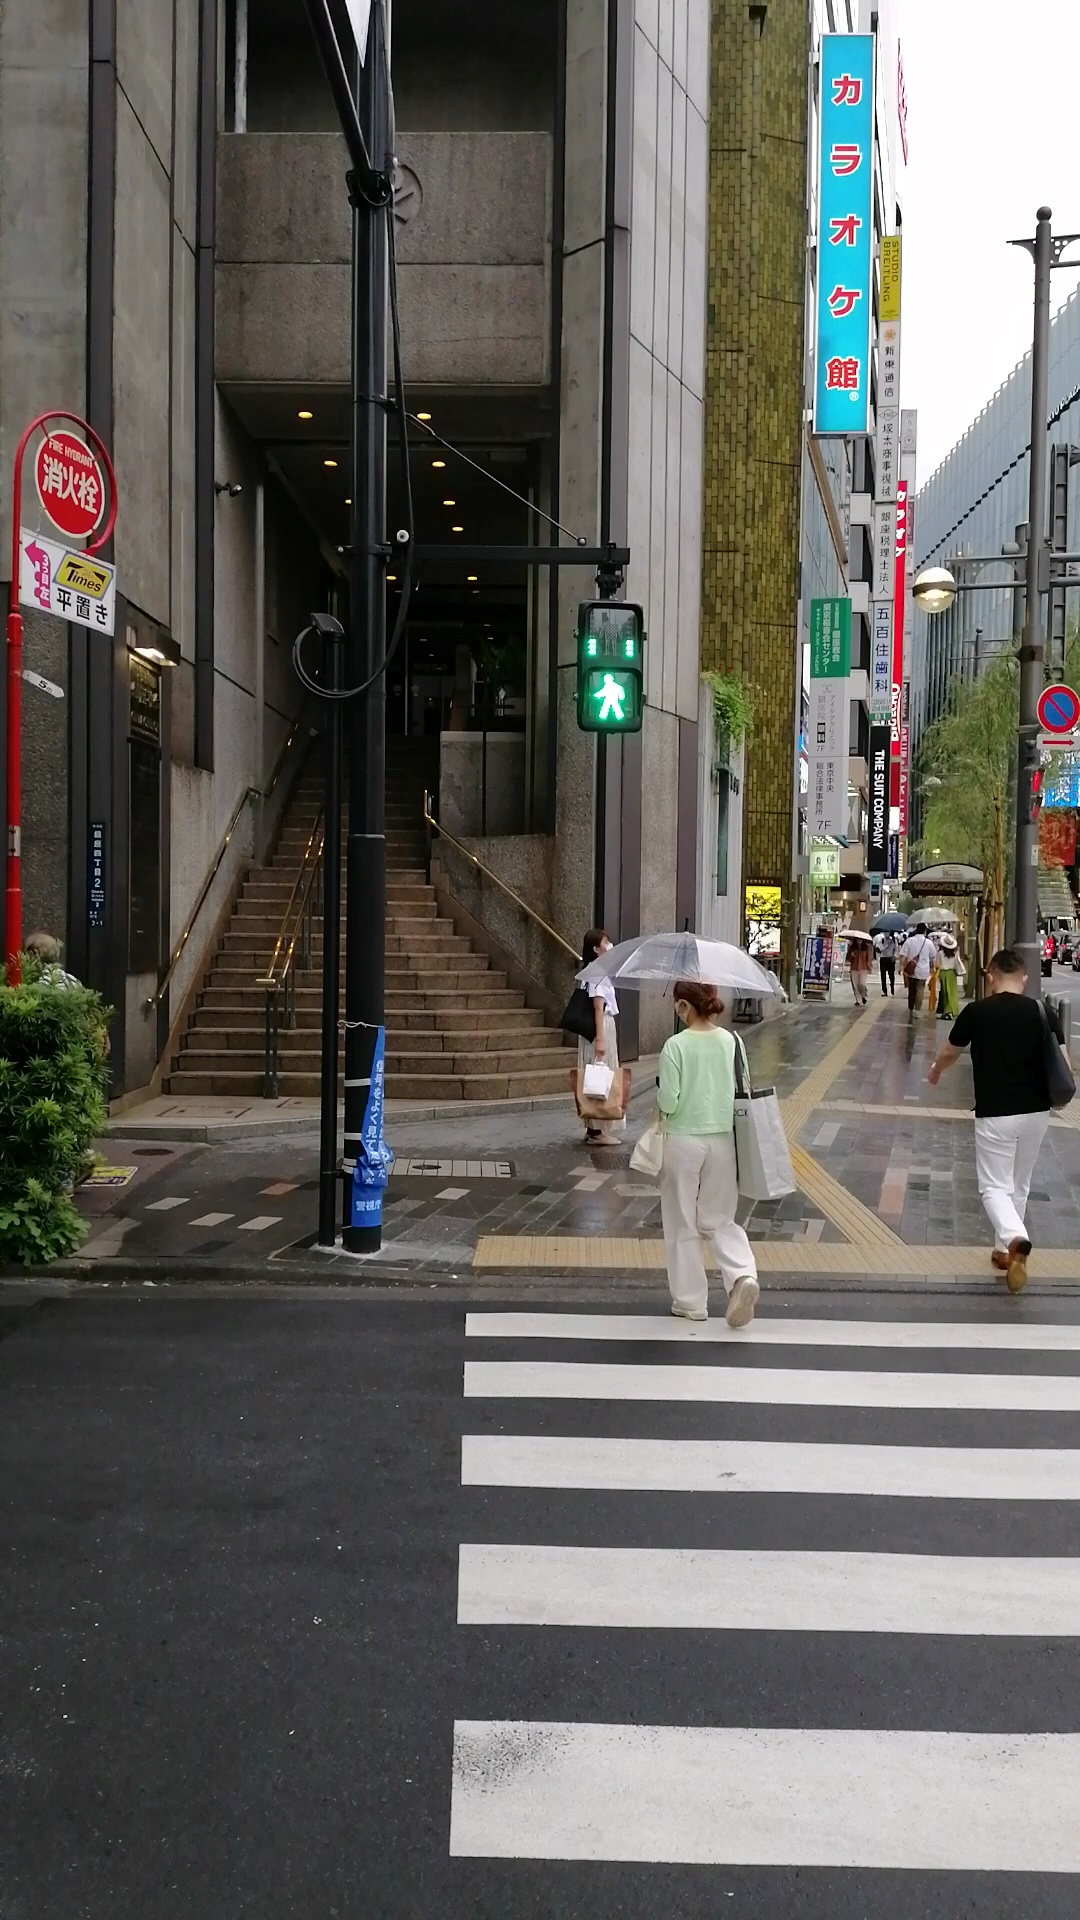green: (570, 597, 649, 732)
